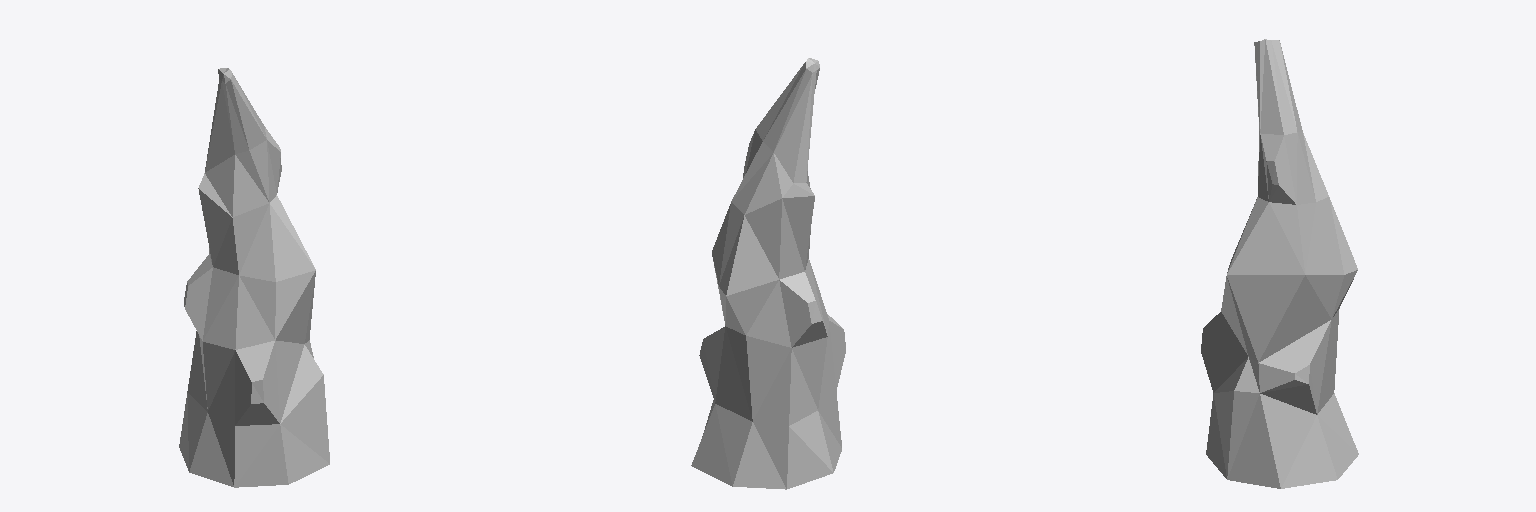
Rendered from testmesh.obj.
3 renders of one model, left to right at view 1: azimuth 30°, elevation 25°; view 2: azimuth 150°, elevation 25°; view 3: azimuth 270°, elevation 25°, orthographic.
Parts seen in each view (by area): view 1: Stalagmite; view 2: Stalagmite; view 3: Stalagmite.
Boxes of the visible parts, box(x1,y1,x2,y2) form: Stalagmite: box(179, 68, 329, 487); Stalagmite: box(691, 58, 845, 489); Stalagmite: box(1201, 39, 1358, 488).
Bounding box in the file's own units: 2.45 × 7.09 × 2.54.